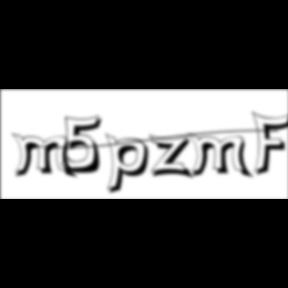5: (62, 114, 108, 176)
m: (11, 132, 79, 181), (188, 132, 256, 181)
p: (106, 132, 156, 198)
z: (148, 134, 198, 182)
